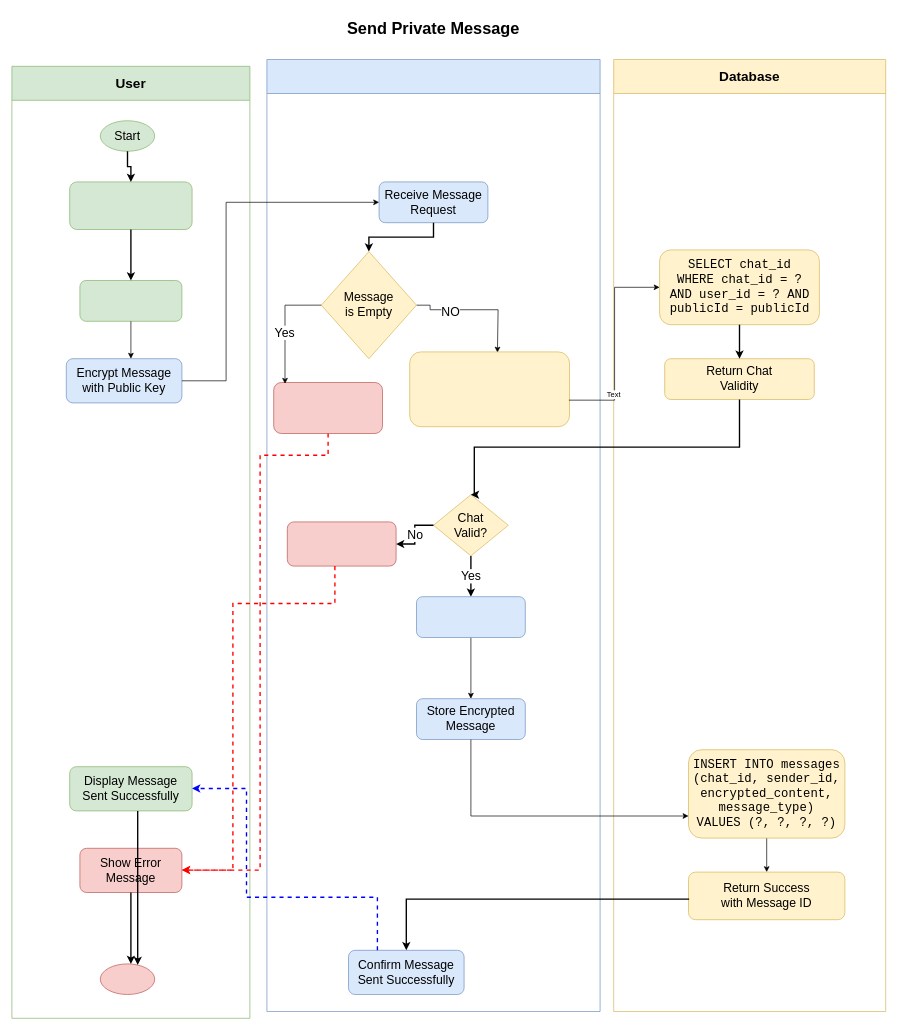
The diagram is 898 pixels wide and 1030 high, and some of its shapes have lost their labels. The shapes that lost their labels are listed below. From the top down, each one's box as (x1, y1, x2, y2) in pixels, then its label:
(69, 181, 192, 230): Compose Message (Text, Photo, or File)
(79, 280, 182, 321): Click Send Button
(273, 382, 382, 434): Return 400: Message Cannot Be Empty
(409, 351, 570, 427): Check if Chat Exists & receiver public key is correct
(287, 521, 396, 566): Return 404: Chat Not Found
(266, 59, 600, 1012): Server
(416, 596, 525, 638): Get Receiver's Public Key
(100, 963, 155, 995): End
